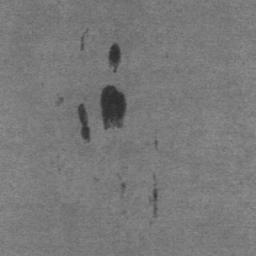Iron scale compression: (100, 86, 127, 131), (77, 103, 90, 144), (108, 43, 121, 73), (79, 28, 88, 61), (154, 174, 159, 219)
